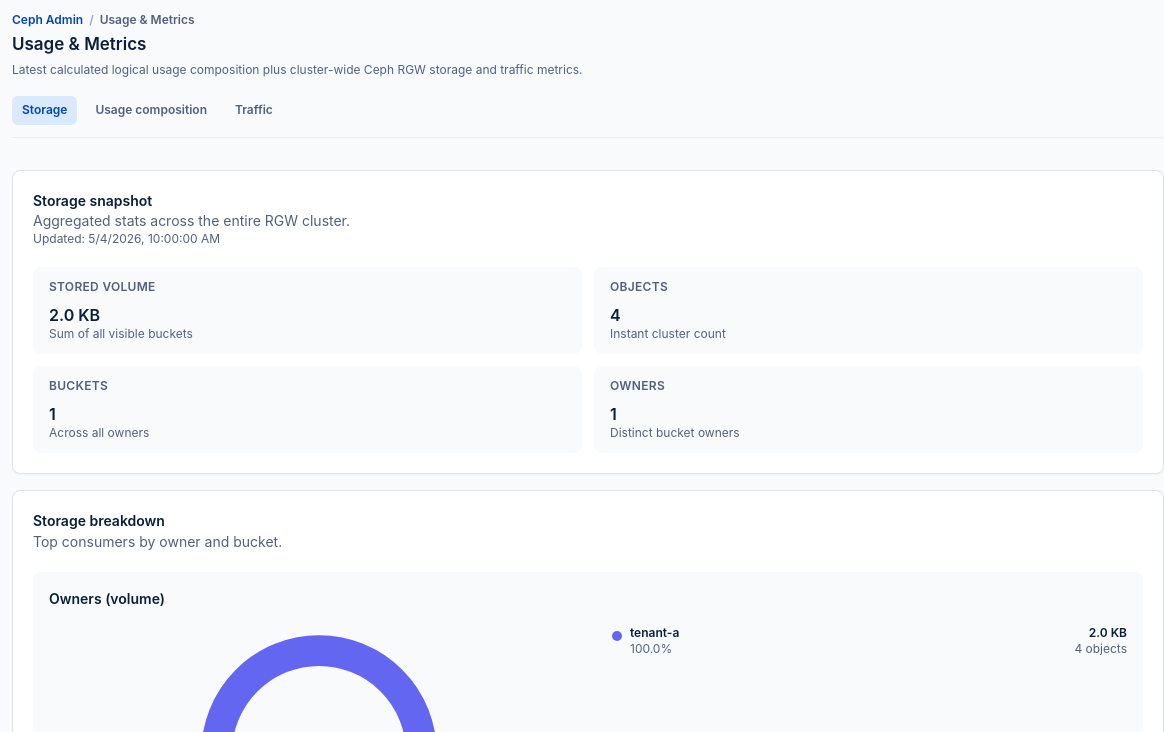
CephAdminMetricsPage › keeps traffic load errors inside the traffic card without empty counters
Expected: the heading "Storage breakdown" is shown, [33, 512, 165, 529]
Click the tab "Traffic" at [254, 110], box [225, 96, 283, 124]
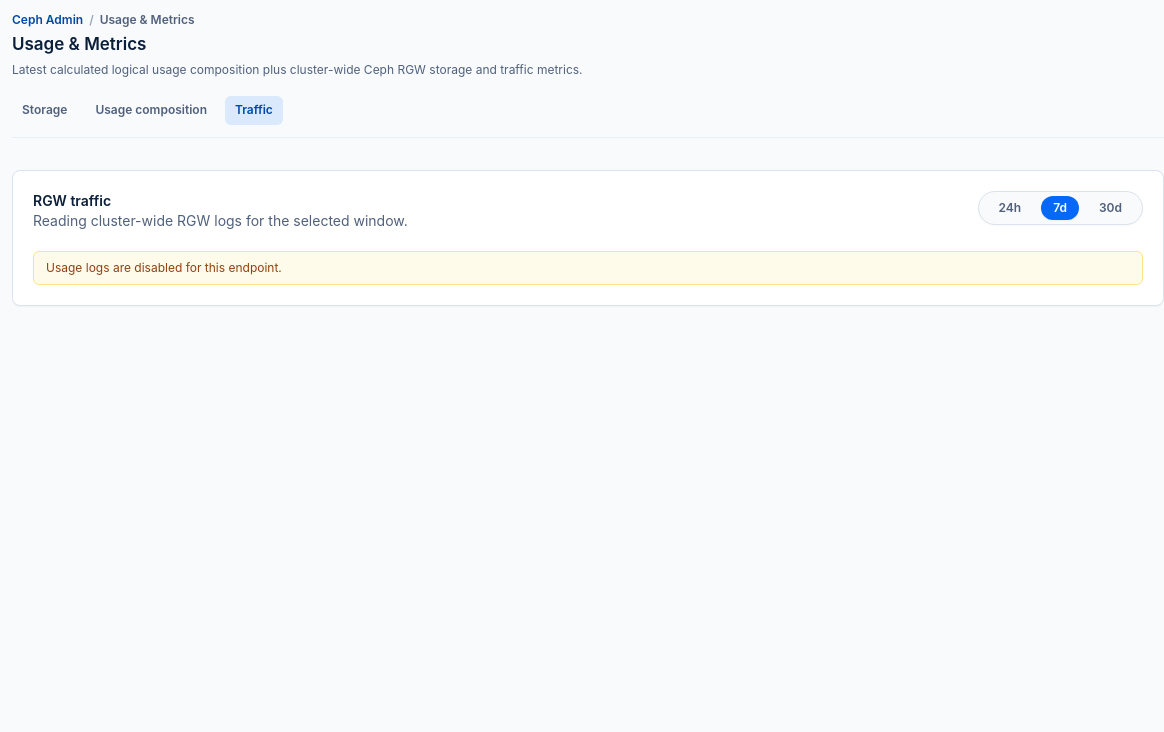
Result: the text "Usage logs are disabled for this endpoint." is shown at [46, 260, 282, 275]
Result: the heading "RGW traffic" is shown at [33, 192, 111, 208]
Result: the heading "Storage breakdown" is gone
